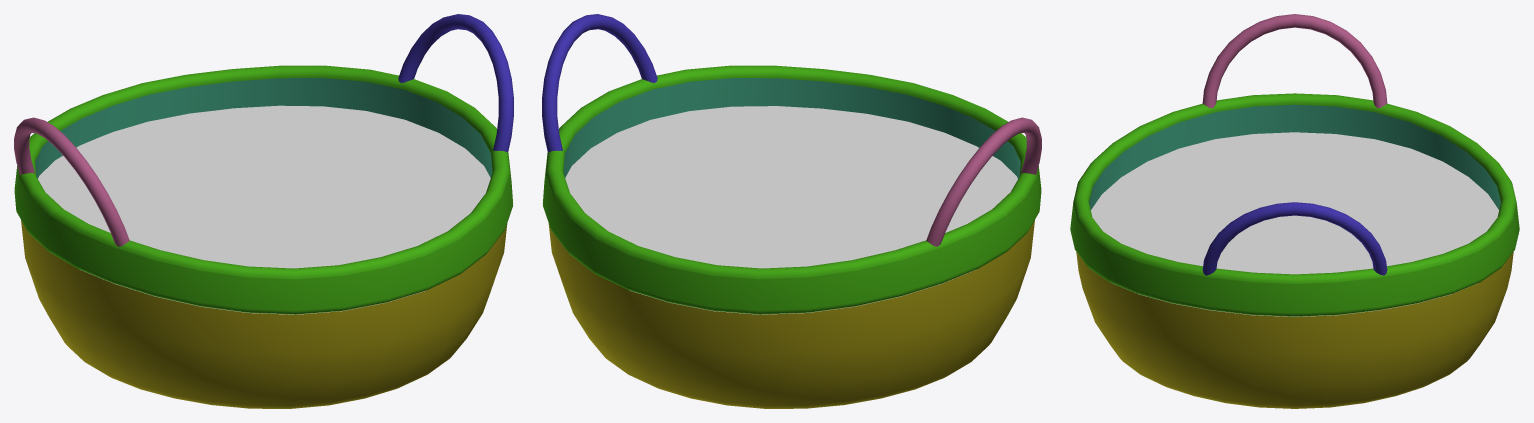
Rendered from BasketEmpty_Style_02.fbx.
3 views of the same model, side by side, from view 1: azimuth 30°, elevation 25°; view 2: azimuth 150°, elevation 25°; view 3: azimuth 270°, elevation 25° (orthographic). The views are drawn at different scales.
Visible parts, largest first — view 1: SetA_BasketEmpty_Style_02; view 2: SetA_BasketEmpty_Style_02; view 3: SetA_BasketEmpty_Style_02.
Boxes of the visible parts, x1,y1,x2,y2 form: SetA_BasketEmpty_Style_02: (14, 14, 513, 408); SetA_BasketEmpty_Style_02: (542, 14, 1041, 408); SetA_BasketEmpty_Style_02: (1070, 14, 1519, 408).
Bounding box in the file's own units: 0.693 × 0.3811 × 0.6793.
